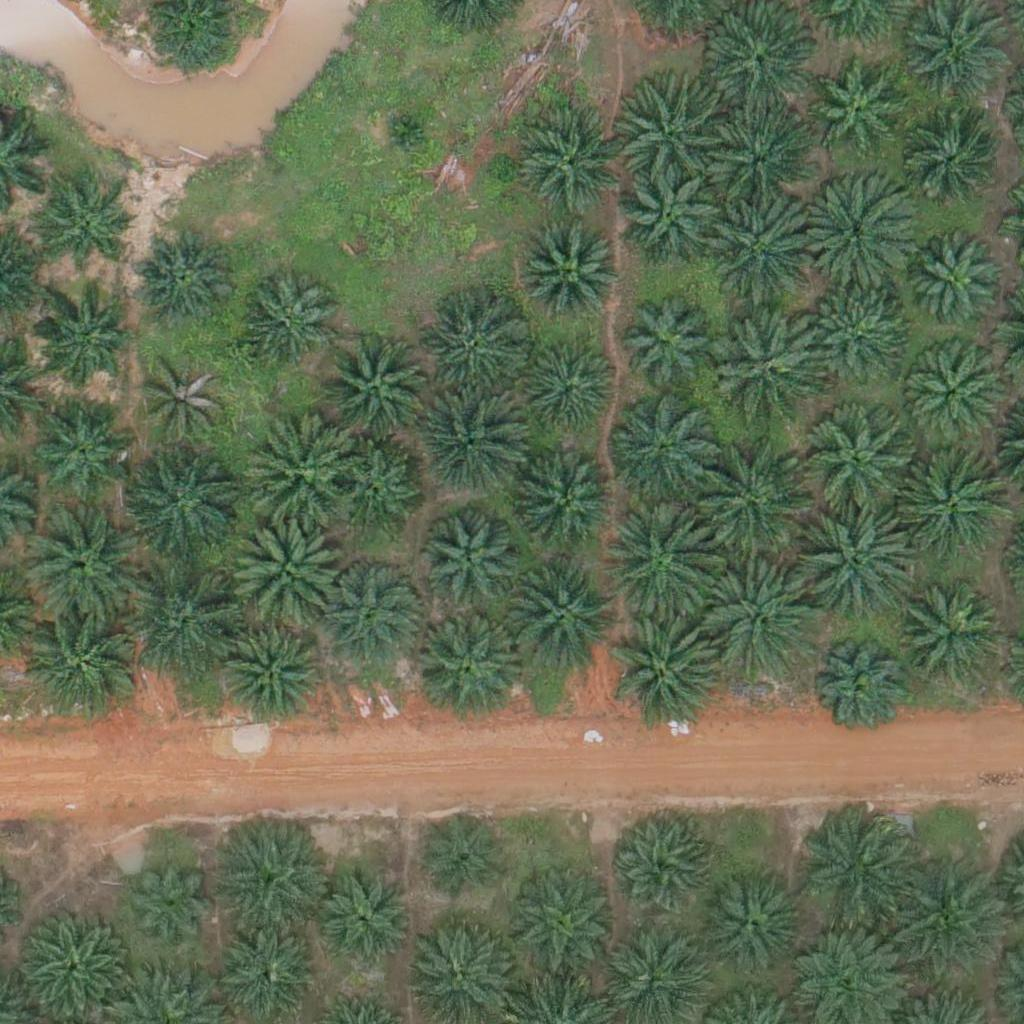Kelapa_Sawit: (799, 174, 912, 288), (708, 190, 821, 304), (702, 567, 815, 681), (599, 507, 712, 621), (415, 608, 528, 722), (502, 560, 615, 674), (882, 868, 995, 981), (796, 817, 909, 930), (894, 448, 1007, 561), (804, 409, 917, 522), (713, 308, 826, 421), (414, 387, 527, 500), (26, 608, 139, 721), (502, 866, 614, 980), (214, 815, 326, 929), (606, 391, 718, 505), (896, 585, 1008, 698), (806, 506, 918, 619), (706, 12, 818, 125), (695, 441, 807, 554), (611, 618, 723, 731), (617, 68, 729, 181), (319, 331, 431, 444), (242, 414, 354, 527), (229, 512, 341, 625), (131, 567, 243, 680), (127, 446, 239, 559), (25, 508, 137, 621), (705, 869, 805, 970), (906, 6, 1006, 107), (901, 346, 1001, 447), (807, 61, 907, 162), (618, 296, 718, 397), (619, 166, 719, 267), (420, 517, 520, 618), (321, 561, 421, 662), (235, 272, 335, 373), (31, 292, 131, 393), (610, 816, 710, 916), (315, 862, 415, 962), (898, 120, 998, 220), (809, 293, 909, 393), (709, 109, 809, 209), (520, 117, 620, 217), (521, 226, 621, 326), (521, 342, 621, 442), (517, 458, 617, 558), (423, 302, 523, 402), (220, 624, 320, 724), (132, 227, 232, 327), (31, 396, 131, 496), (911, 240, 999, 329), (419, 812, 507, 900), (331, 445, 419, 533), (131, 860, 218, 948), (814, 647, 901, 735), (141, 358, 228, 446), (43, 188, 130, 276), (378, 104, 428, 155)
